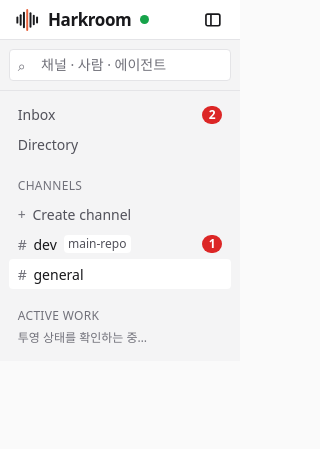
Test: Sidebar › 채널 만들기 (admin 전용) › 서버가 거절하면 사용자에게 보인다 — 조용히 사라지지 않는다
The image size is (320, 449).
Click the button with test id "add-channel" at (120, 214), box top-left (9, 200), bottom-right (231, 229)
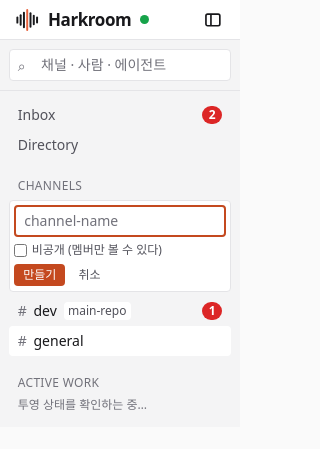
Type "general" into the field named "New channel name" at (120, 221), box top-left (14, 205), bottom-right (226, 237)
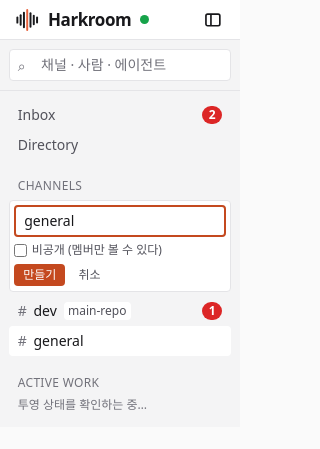
Click the button "만들기" at (40, 275), box top-left (14, 264), bottom-right (65, 286)
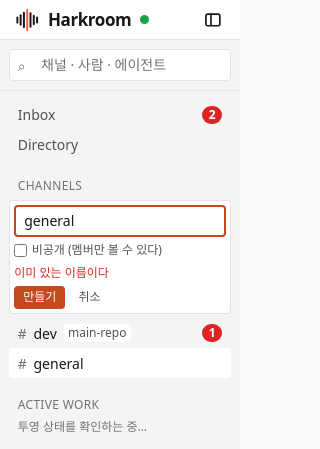
Now the message reads "이미 있는 이름이다", box top-left (14, 264), bottom-right (109, 281)
